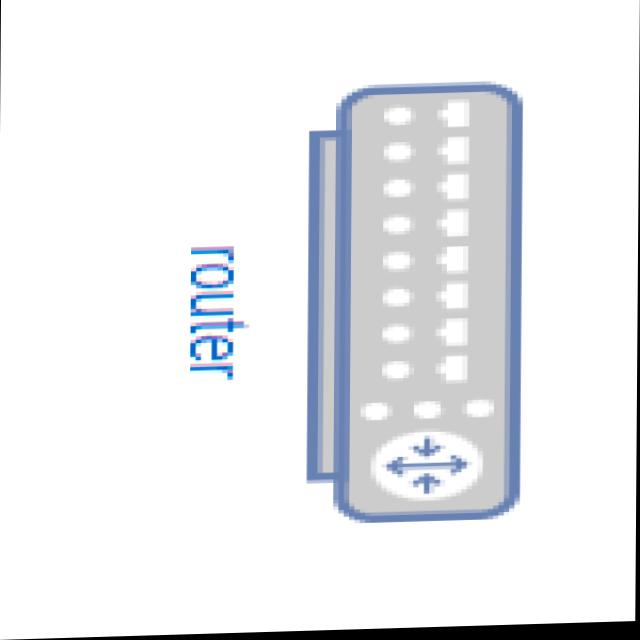Router: (253, 53, 570, 577)
